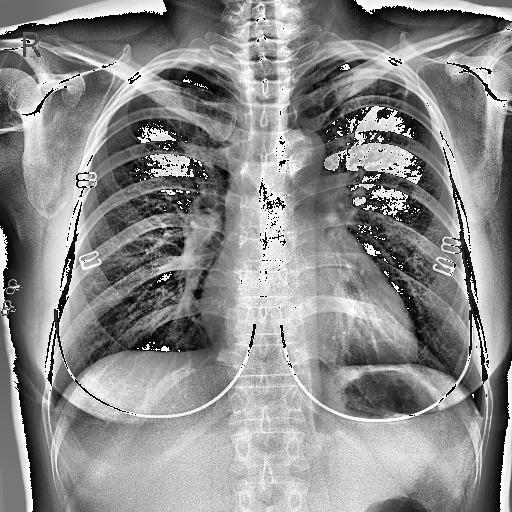11- Pleural thickening: (374, 54, 408, 80)
13- Pulmonary fibrosis: (374, 86, 412, 131), (376, 87, 406, 126), (381, 86, 407, 116)
